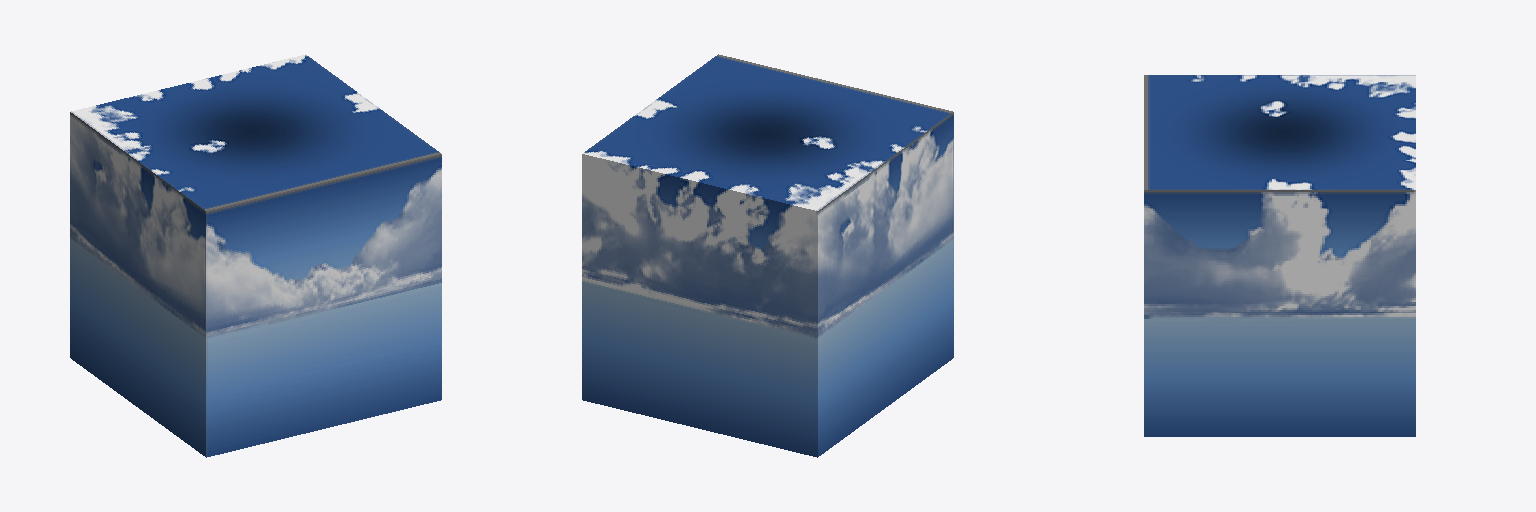
The picture shows the model from 3 angles: view 1: azimuth 30°, elevation 25°; view 2: azimuth 150°, elevation 25°; view 3: azimuth 270°, elevation 25°; orthographic projection.
Visible parts, largest first — view 1: Cube; view 2: Cube; view 3: Cube.
Boxes of the visible parts, <box> form: Cube: <box>70,54,441,457</box>; Cube: <box>582,54,953,457</box>; Cube: <box>1144,75,1415,436</box>.
Size of the model in its own units: 1000 by 1000 by 1000.
1 materials, 1 textured.